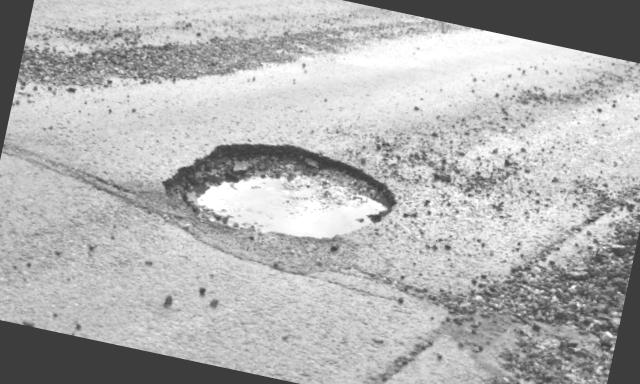Pothole: (155, 108, 414, 281)
